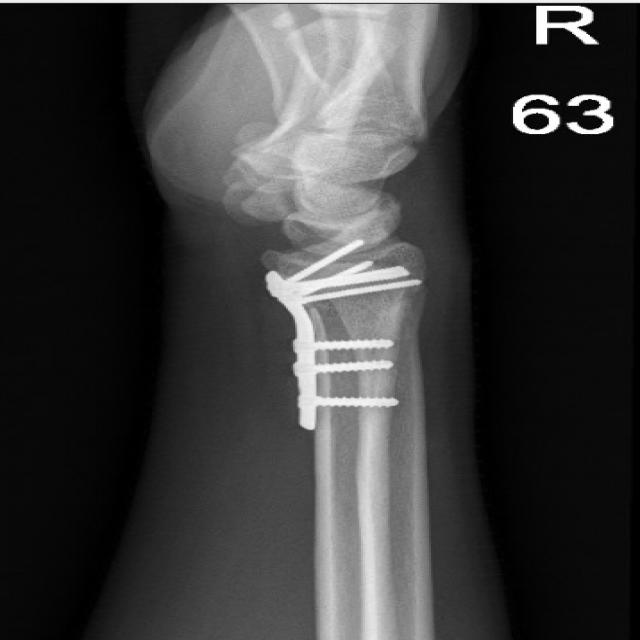x-ray: (255, 233, 432, 443)
